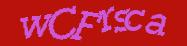C: (48, 5, 76, 39)
F: (69, 10, 103, 40)
a: (145, 14, 166, 35)
c: (124, 10, 145, 30)
r: (98, 6, 114, 32)
s: (114, 8, 130, 32)
w: (20, 14, 52, 38)
